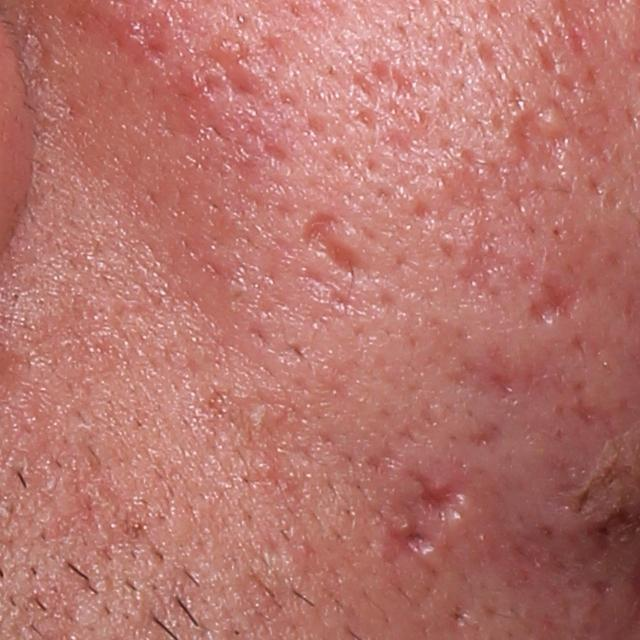atrophic_scar: (433, 148, 541, 305), (444, 338, 582, 415), (349, 54, 432, 156), (300, 211, 363, 283), (195, 42, 260, 104), (533, 36, 576, 104), (524, 275, 580, 327), (552, 1, 591, 66), (415, 471, 463, 522), (471, 35, 499, 69), (260, 136, 289, 168), (411, 202, 435, 229)
